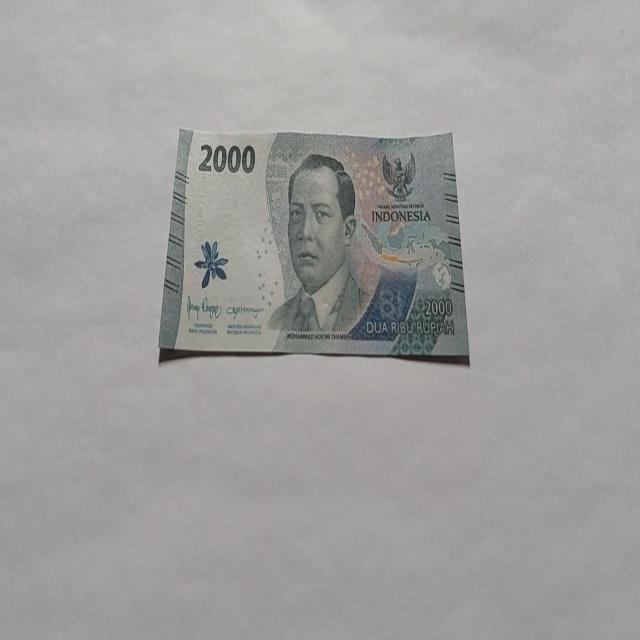dua ribu rupiah: (158, 126, 470, 364), (266, 151, 370, 338)
